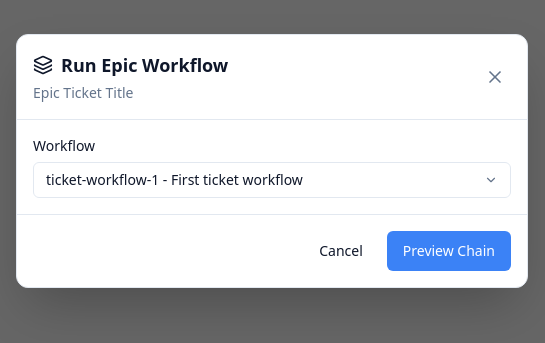
Scenario: RunEpicWorkflowDialog › chain preview › displays preview error when API fails
The image size is (545, 343).
Click the button "Preview Chain": (449,251) [387,231,511,271]
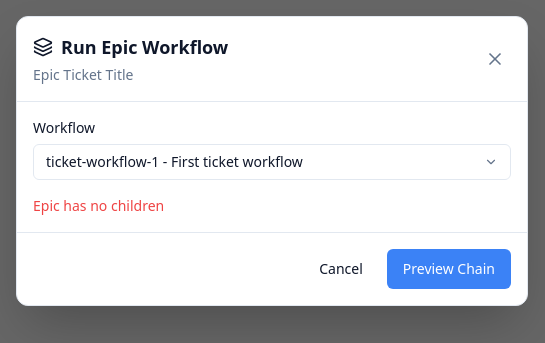
Expected: the text "Epic has no children" is shown, [33,196,164,215]
